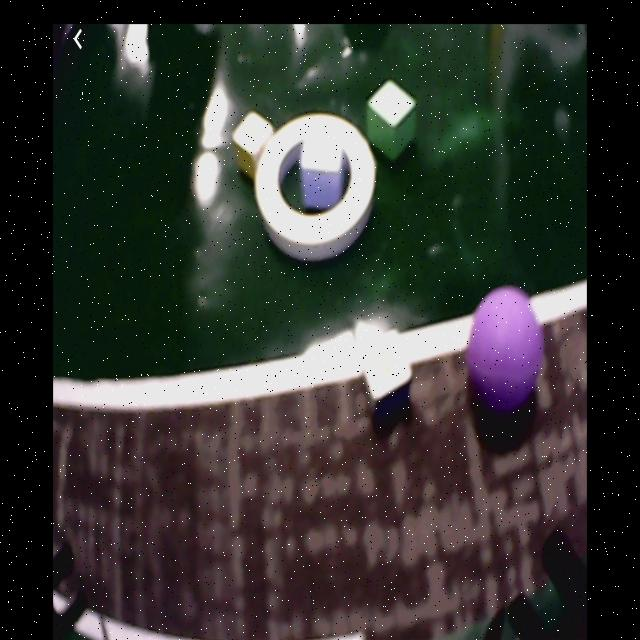ball: (468, 288, 543, 406)
